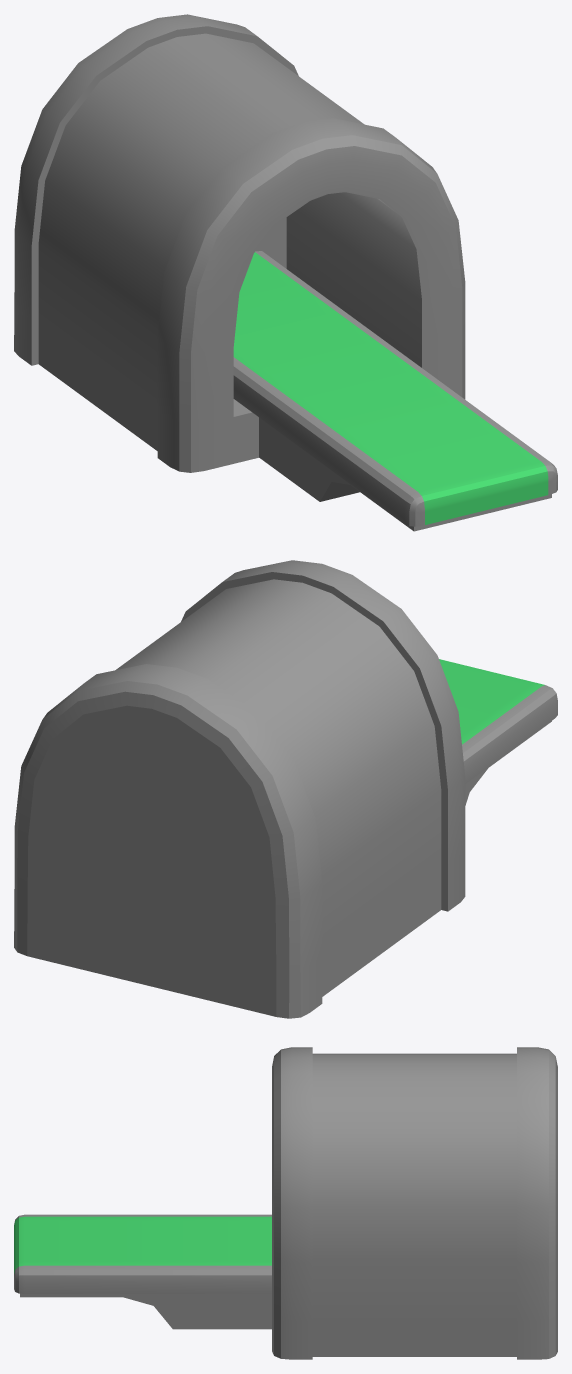
File: FabrickSmall.FBX
3 views of the same model, one above another, from view 1: azimuth 30°, elevation 25°; view 2: azimuth 150°, elevation 25°; view 3: azimuth 270°, elevation 25° (orthographic). The views are drawn at different scales.
Visible parts, largest first — view 1: FabrickSmall; view 2: FabrickSmall; view 3: FabrickSmall.
Boxes of the visible parts, left/top/right/bottom form: FabrickSmall: left=14, top=14, right=557, bottom=531; FabrickSmall: left=14, top=560, right=557, bottom=1018; FabrickSmall: left=14, top=1047, right=557, bottom=1359.
Size of the model in its own units: 385 by 380 by 767.
